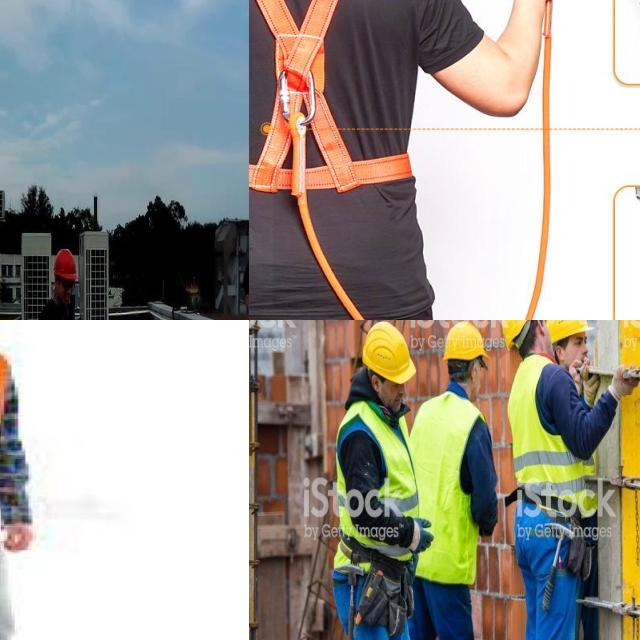Harness: (249, 0, 414, 320)
No_Ear-Protection: (48, 248, 80, 314), (237, 246, 249, 320), (371, 374, 382, 395)
face_nomask: (372, 370, 408, 418), (567, 333, 592, 364)
hand_glove: (603, 362, 640, 407), (409, 512, 436, 568), (578, 358, 603, 413)
head_helmet: (359, 320, 416, 380), (438, 323, 486, 360), (494, 320, 542, 348), (546, 320, 594, 338)
person: (507, 320, 570, 640), (354, 328, 416, 640), (427, 328, 486, 640), (544, 320, 599, 640)
vest: (336, 409, 416, 568), (418, 390, 480, 582), (510, 354, 570, 493)
